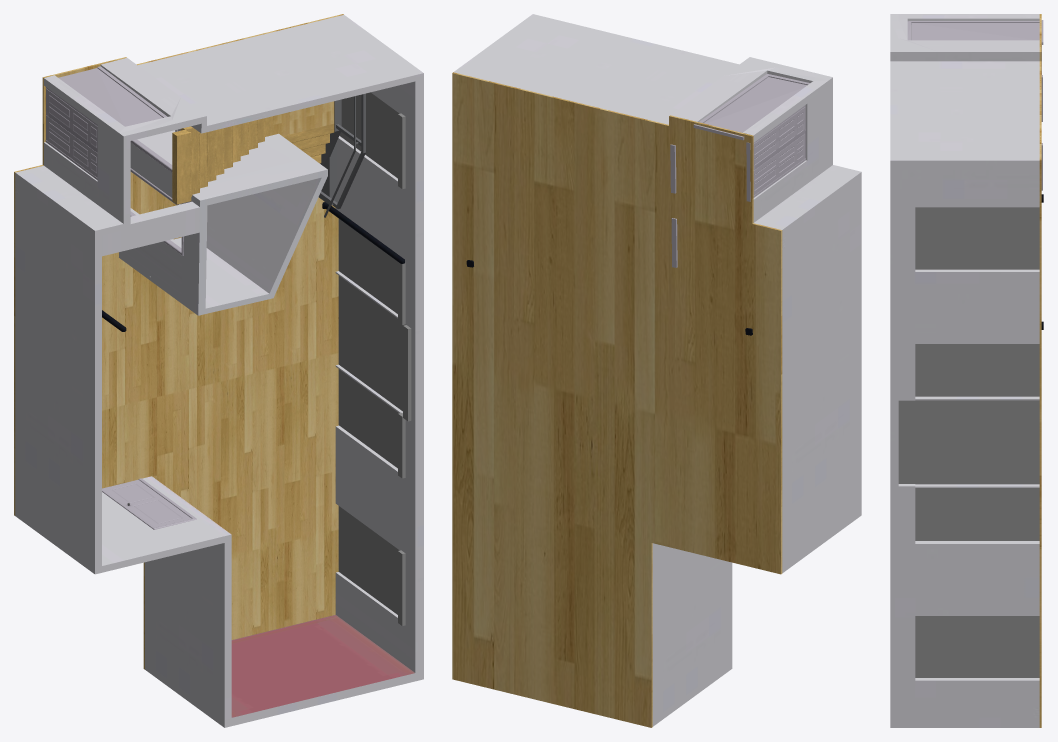
Rendered from stage.obj.
The picture shows the model from 3 angles, left to right: view 1: azimuth 30°, elevation 25°; view 2: azimuth 150°, elevation 25°; view 3: azimuth 270°, elevation 25°; orthographic projection. The views are drawn at different scales.
Parts seen in each view (by area): view 1: replica_stage_Mesh.518; view 2: replica_stage_Mesh.518; view 3: replica_stage_Mesh.518.
Part boxes in pixels (x1,y1,x2,y2): replica_stage_Mesh.518: (14,14,423,727); replica_stage_Mesh.518: (452,14,861,727); replica_stage_Mesh.518: (890,14,1043,727).
Size of the model in its own units: 7.26 by 13 by 3.13.
Materials: 10 (9 with a texture image).
